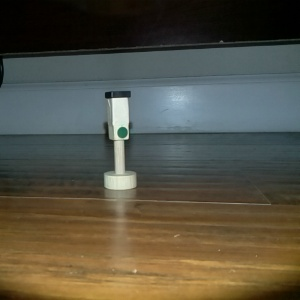traffic light green: (99, 88, 138, 193)
